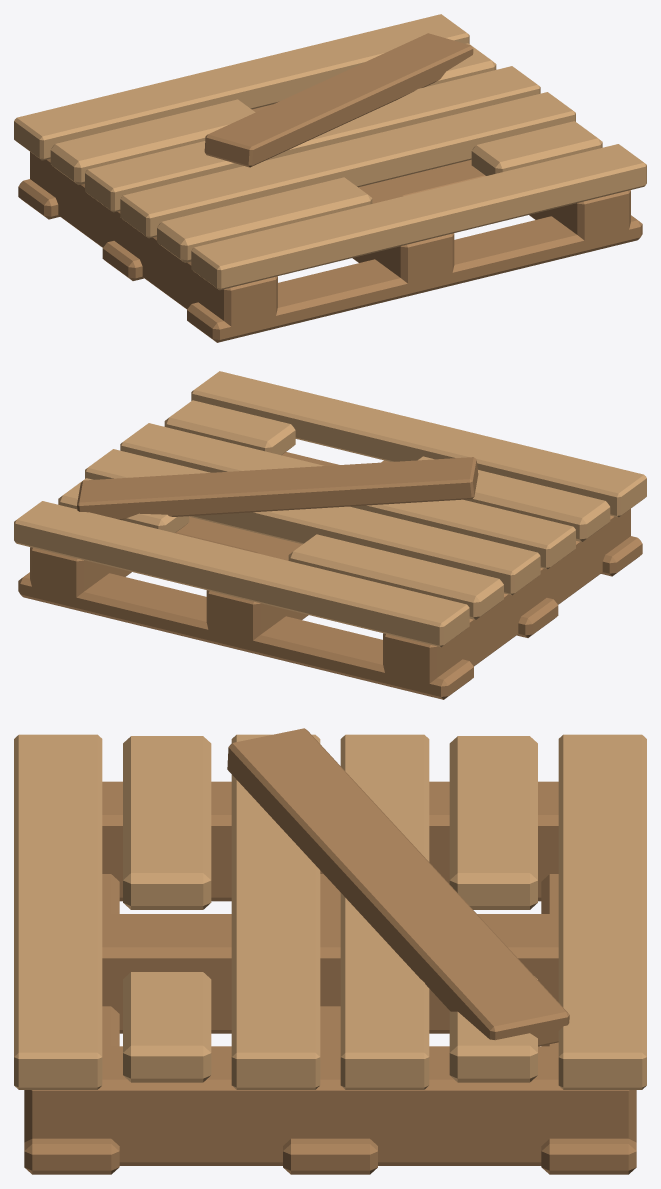
The model's file is Pallet_Broken.glb.
3 renders of one model, top to bottom at view 1: azimuth 30°, elevation 25°; view 2: azimuth 150°, elevation 25°; view 3: azimuth 270°, elevation 25°, orthographic. The views are drawn at different scales.
Parts seen in each view (by area): view 1: Pallet_Broken; view 2: Pallet_Broken; view 3: Pallet_Broken.
Part boxes in pixels (left/top/right/bottom): Pallet_Broken: left=14, top=14, right=646, bottom=342; Pallet_Broken: left=14, top=371, right=646, bottom=699; Pallet_Broken: left=14, top=728, right=646, bottom=1174.
Size of the model in its own units: 1.12 by 0.3092 by 0.93.
